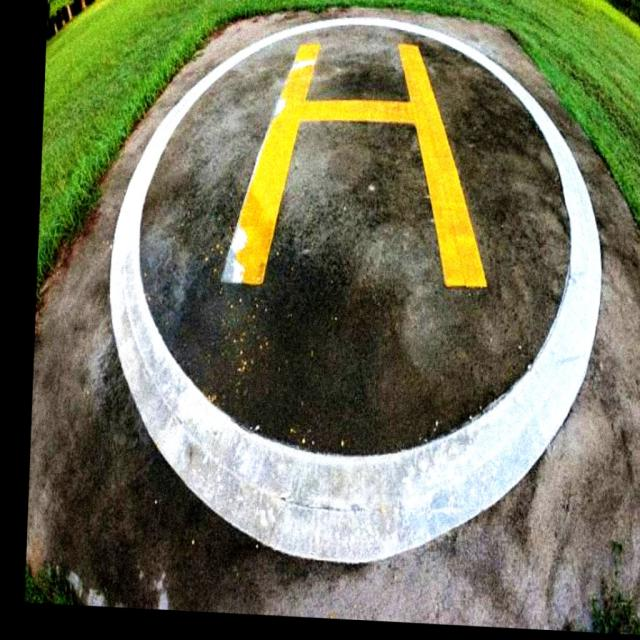helipad: (102, 12, 608, 572)
